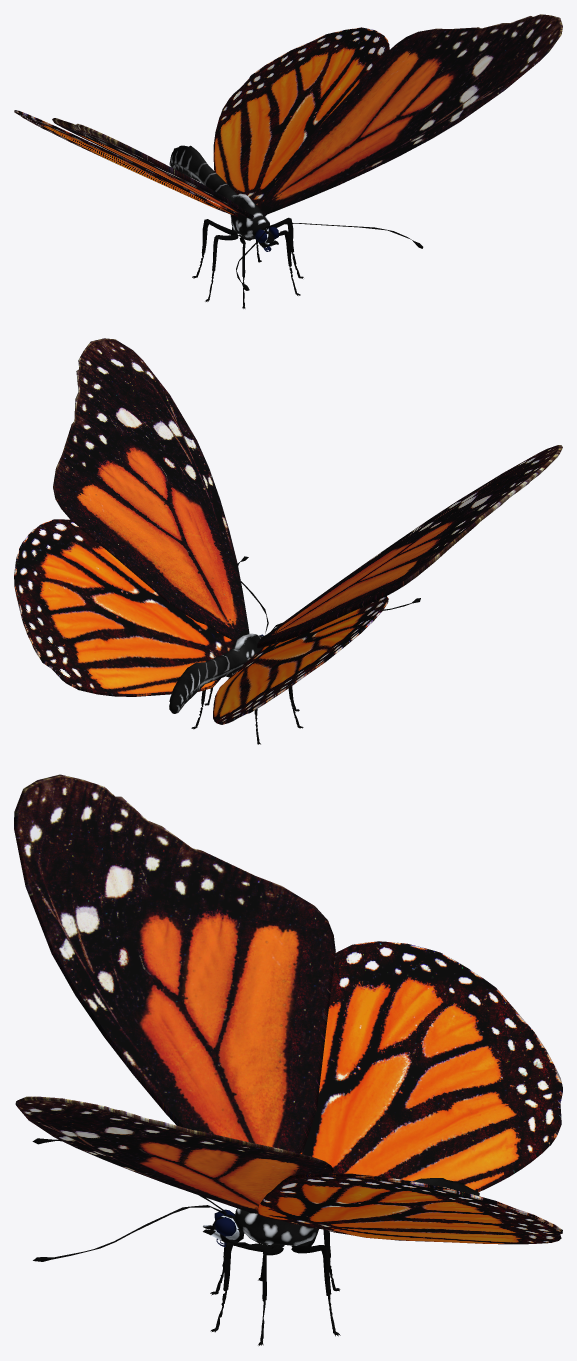
The model's file is Butterfly.fbx.
3 views of the same model, one above another, from view 1: azimuth 30°, elevation 25°; view 2: azimuth 150°, elevation 25°; view 3: azimuth 270°, elevation 25° (orthographic). The views are drawn at different scales.
Visible parts, largest first — view 1: polySurface2, polySurface8, polySurface1, Butterfly.004, Butterfly.006, polySurface5; view 2: polySurface2, polySurface8, polySurface1, polySurface5, Butterfly.004, Butterfly.006; view 3: polySurface1, polySurface5, polySurface2, polySurface8, Butterfly.006, Butterfly.004.
Boxes of the visible parts, x1,y1,x2,y2 form: polySurface2: [259, 14, 562, 216]; polySurface8: [213, 27, 389, 207]; polySurface1: [52, 118, 253, 219]; Butterfly.004: [169, 145, 269, 239]; Butterfly.006: [192, 217, 423, 308]; polySurface5: [14, 110, 237, 216]; polySurface2: [53, 338, 249, 641]; polySurface8: [14, 519, 235, 696]; polySurface1: [257, 445, 562, 648]; polySurface5: [213, 596, 388, 724]; Butterfly.004: [169, 633, 262, 713]; Butterfly.006: [191, 556, 420, 744]; polySurface1: [14, 774, 335, 1153]; polySurface5: [300, 941, 562, 1192]; polySurface2: [15, 1096, 333, 1213]; polySurface8: [256, 1173, 562, 1244]; Butterfly.006: [32, 1138, 340, 1345]; Butterfly.004: [235, 1178, 480, 1245].
Bounding box in the file's own units: 25.2 × 13.82 × 18.18.
Materials: 6 (5 with a texture image).
